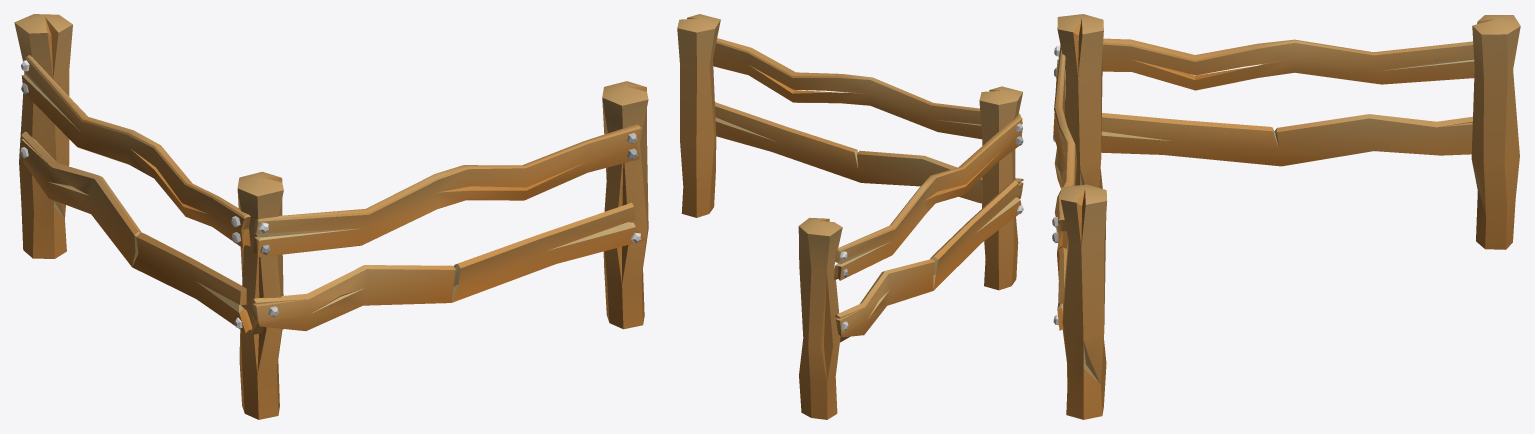
The model's file is valla12.fbx.
3 renders of one model, left to right at view 1: azimuth 30°, elevation 25°; view 2: azimuth 150°, elevation 25°; view 3: azimuth 270°, elevation 25°, orthographic. The views are drawn at different scales.
Parts seen in each view (by area): view 1: VallaCurvaLarga; view 2: VallaCurvaLarga; view 3: VallaCurvaLarga.
Part boxes in pixels (left/top/right/bottom): VallaCurvaLarga: left=14, top=14, right=648, bottom=419; VallaCurvaLarga: left=677, top=14, right=1023, bottom=419; VallaCurvaLarga: left=1052, top=14, right=1520, bottom=419.
Size of the model in its own units: 1140 by 611 by 1165.
